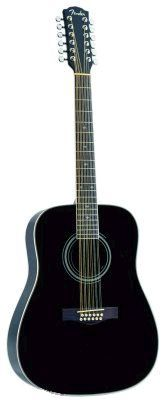guitar: (7, 4, 160, 397)
